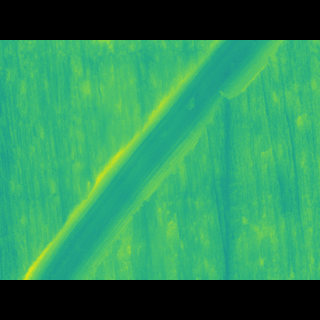Loch: (22, 69, 285, 251)
